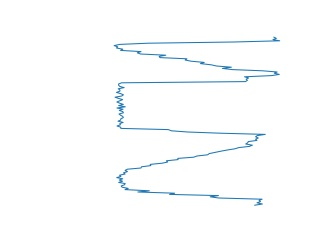distributaryChannelFill: (111, 72, 271, 143)
mouthBar: (111, 33, 283, 78)
underwaterDistributaryChannel: (114, 136, 266, 209)
